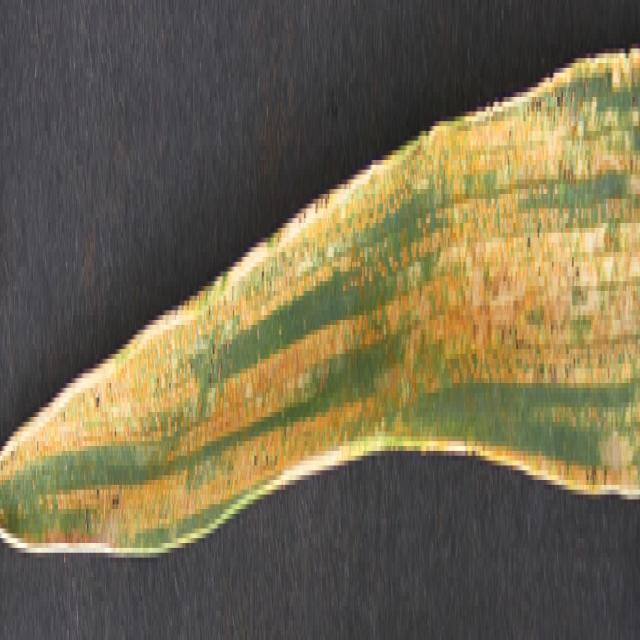leaf rust: (18, 53, 640, 577)
